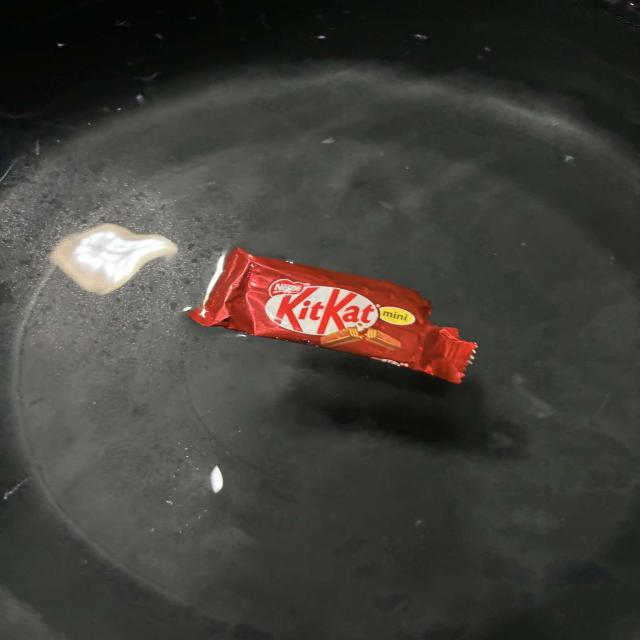Plastic Wrapper: (168, 229, 503, 399)
